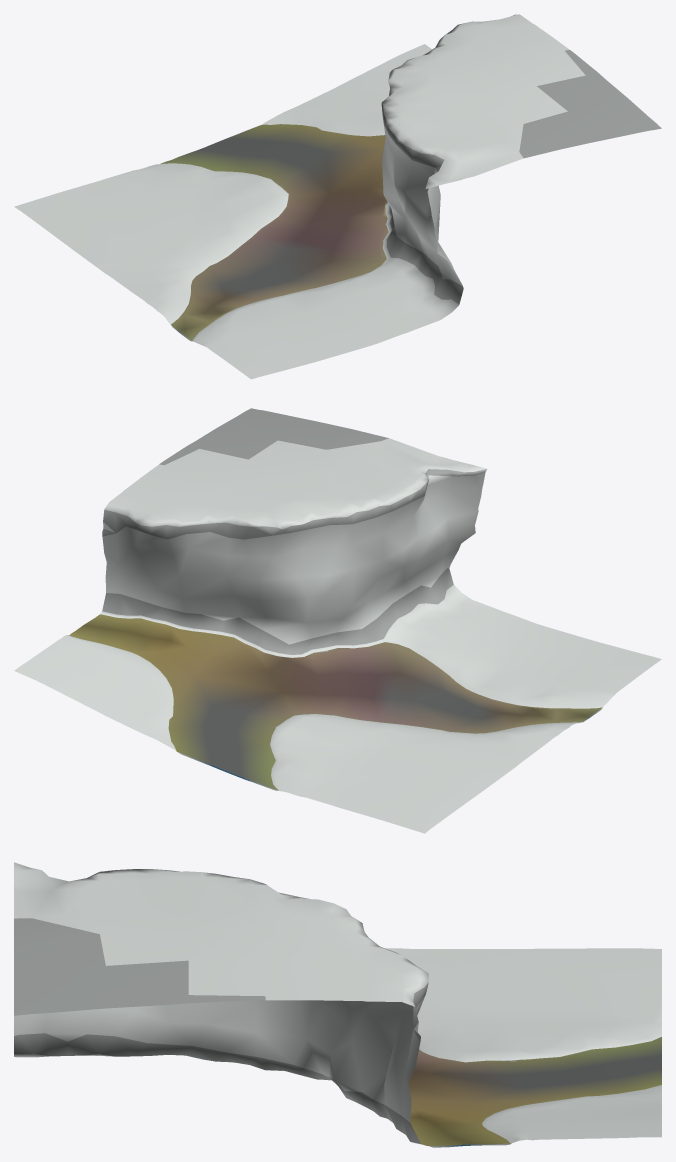
3 renders of one model, top to bottom at view 1: azimuth 30°, elevation 25°; view 2: azimuth 150°, elevation 25°; view 3: azimuth 270°, elevation 25°, orthographic. The views are drawn at different scales.
Visible parts, largest first — view 1: G:\FFXIV-MapTools\exports\r2f1\bg\ex1\01_roc_r2\fld\r2f1\bgp (×6); view 2: G:\FFXIV-MapTools\exports\r2f1\bg\ex1\01_roc_r2\fld\r2f1\bgp (×6); view 3: G:\FFXIV-MapTools\exports\r2f1\bg\ex1\01_roc_r2\fld\r2f1\bgp (×6).
Part boxes in pixels (x1,y1,x2,y2): G:\FFXIV-MapTools\exports\r2f1\bg\ex1\01_roc_r2\fld\r2f1\bgp (×6): [14, 14, 661, 379]; G:\FFXIV-MapTools\exports\r2f1\bg\ex1\01_roc_r2\fld\r2f1\bgp (×6): [14, 408, 661, 833]; G:\FFXIV-MapTools\exports\r2f1\bg\ex1\01_roc_r2\fld\r2f1\bgp (×6): [14, 862, 661, 1145].
Size of the model in its own units: 128 by 50.25 by 128.
